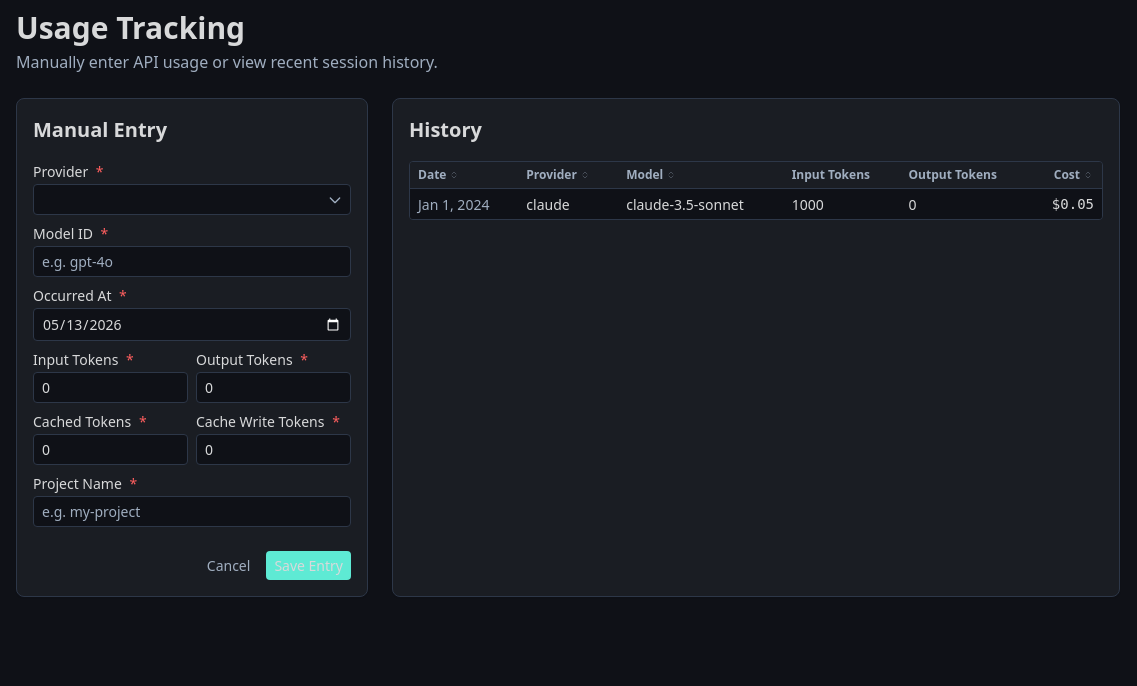
it: Usage Page › shows validation errors for missing required fields
Click the button "Save Entry". click: point(309, 566)
box: [266,551,351,580]
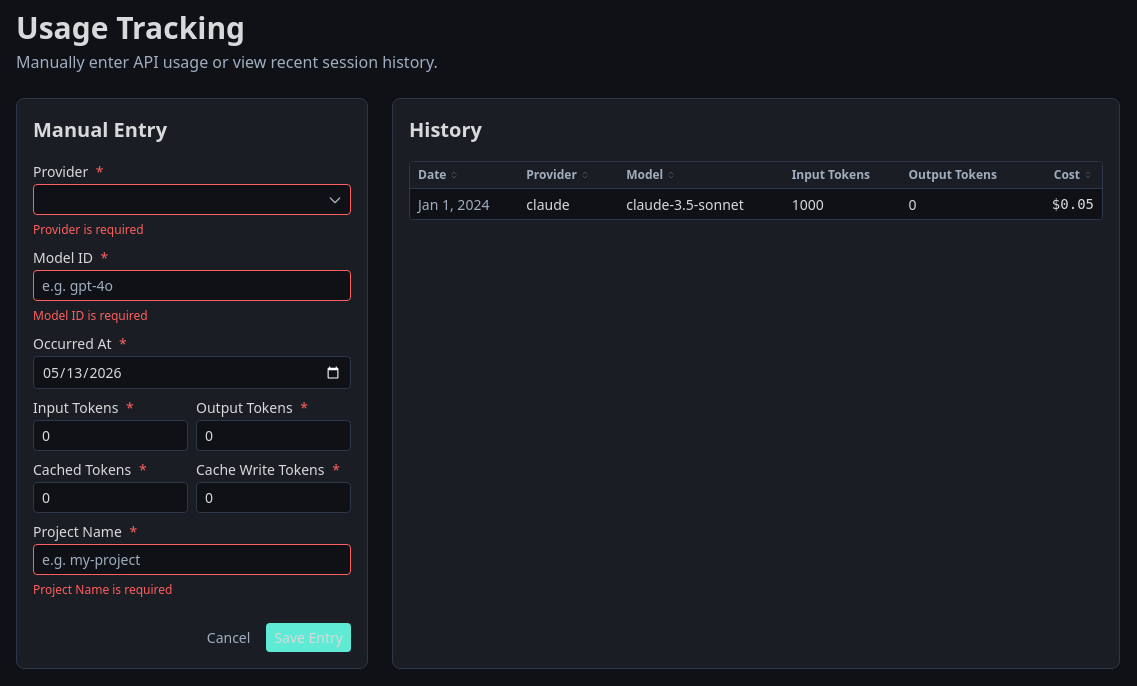
Now the text "Provider is required" is shown, box [33,221,144,238]
Now the text "Model ID is required" is shown, box [33,307,148,324]
Now the text "Project Name is required" is shown, box [33,581,172,598]
